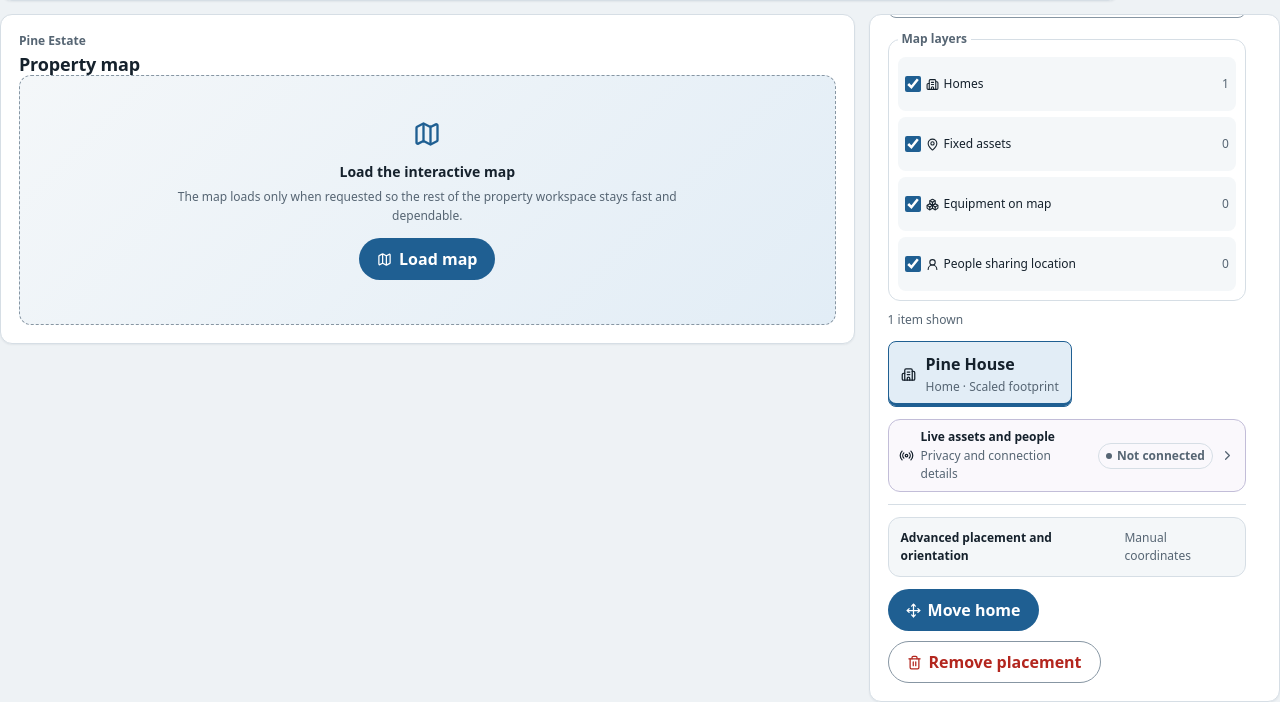
Property destructive flows › removes a Home map placement while preserving its weather reference
(page scrolled)
Click the button "Remove placement": (994, 662) [888, 641, 1100, 683]
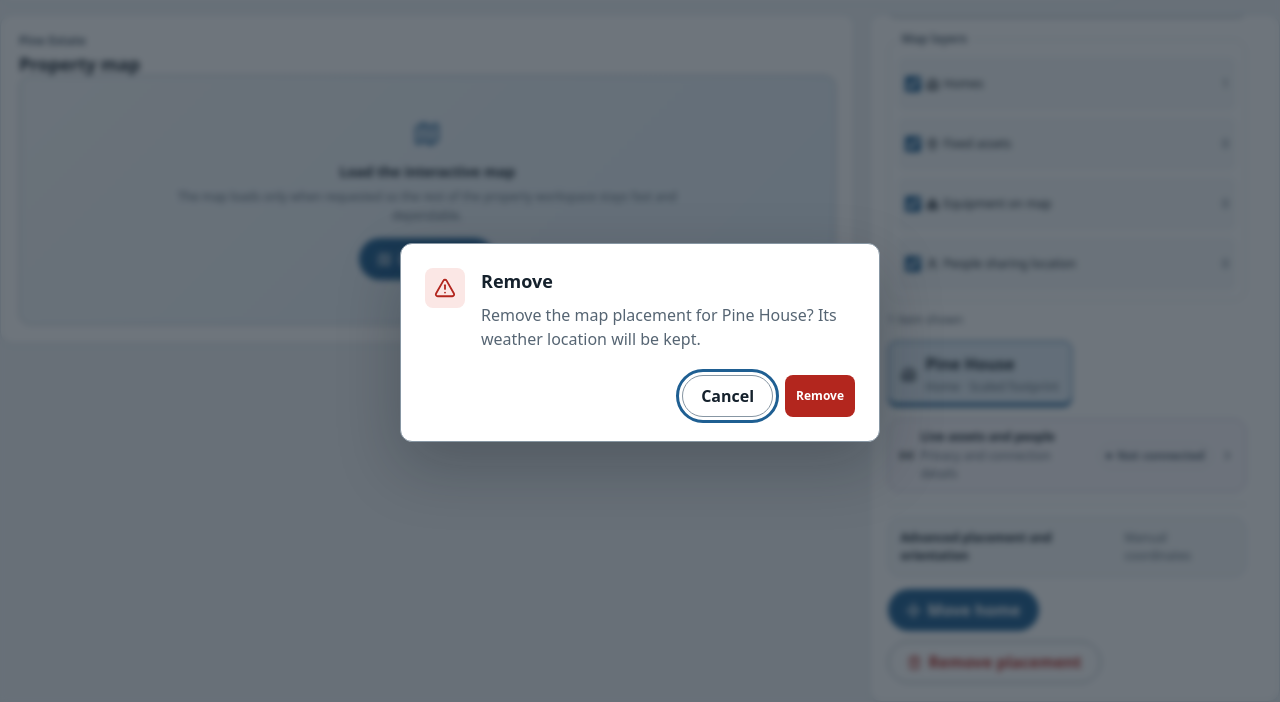
Click the button "Remove": (820, 396) [785, 374, 855, 416]
(page scrolled)
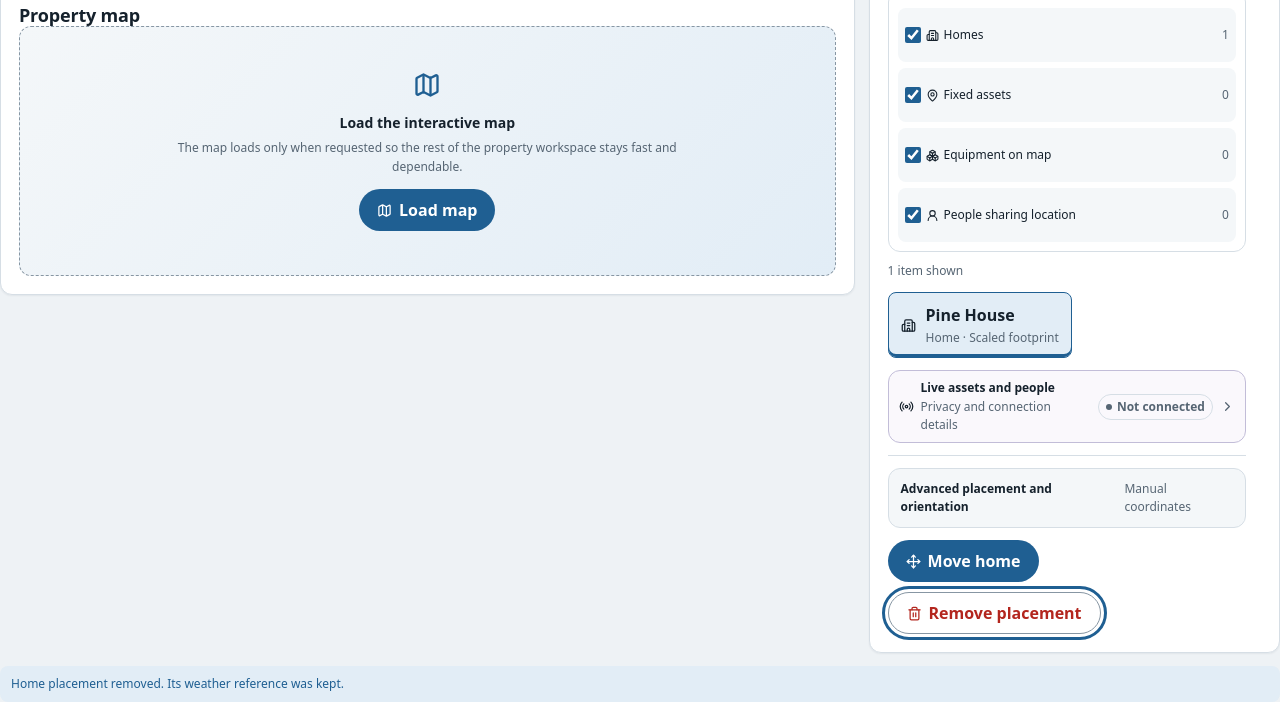
Expected: the text "Home placement removed. Its weather reference was kept." is shown, [0, 666, 1279, 701]
